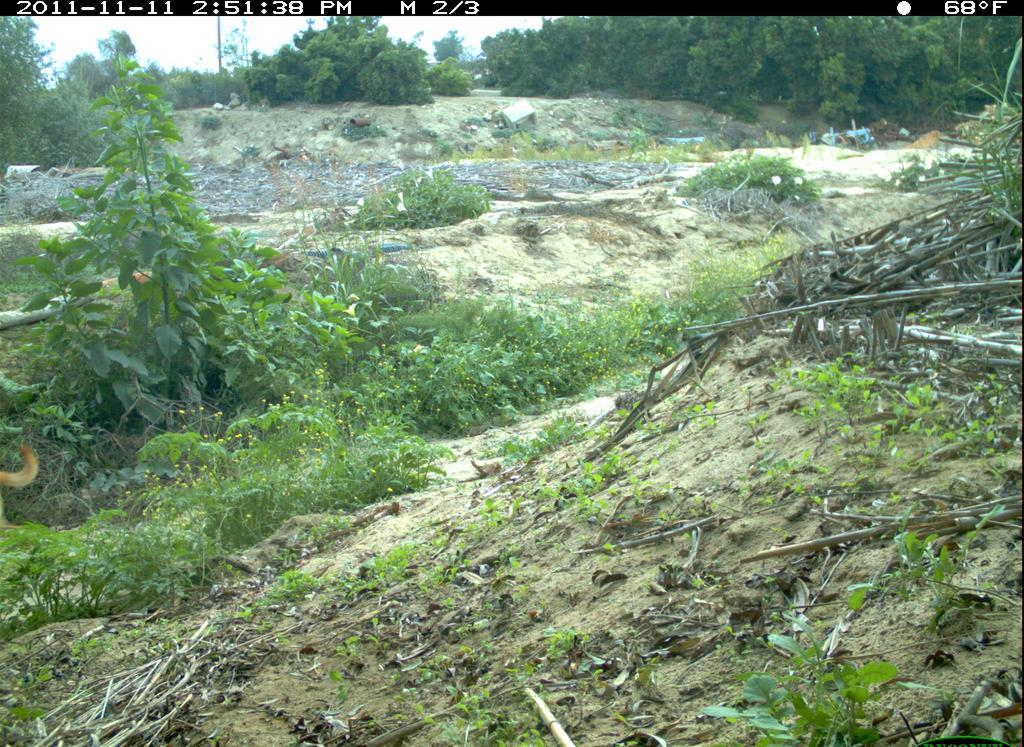dog: (3, 432, 53, 502)
